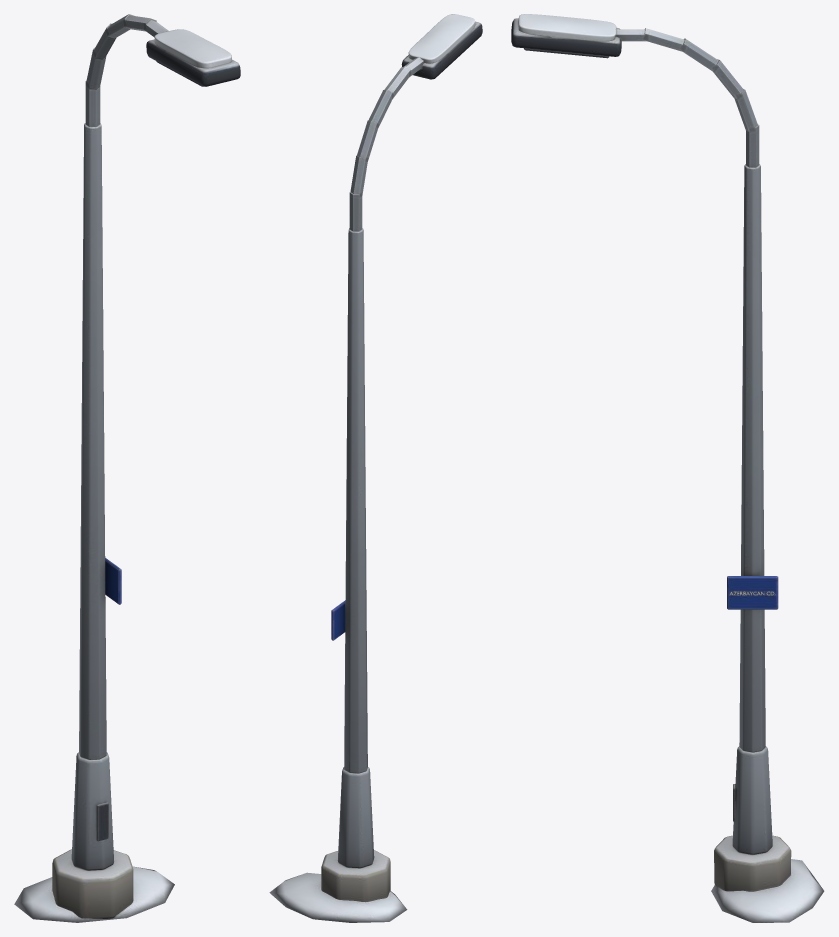
The model's file is street_lamp.glb.
3 views of the same model, side by side, from view 1: azimuth 30°, elevation 25°; view 2: azimuth 150°, elevation 25°; view 3: azimuth 270°, elevation 25° (orthographic). The views are drawn at different scales.
Parts seen in each view (by area): view 1: street_lamp; view 2: street_lamp; view 3: street_lamp.
Boxes of the visible parts, x1,y1,x2,y2 form: street_lamp: (14,14,240,922); street_lamp: (269,14,482,922); street_lamp: (511,14,824,922).
Bounding box in the file's own units: 1.24 × 7.81 × 2.56.
Materials: 1 (1 with a texture image).
